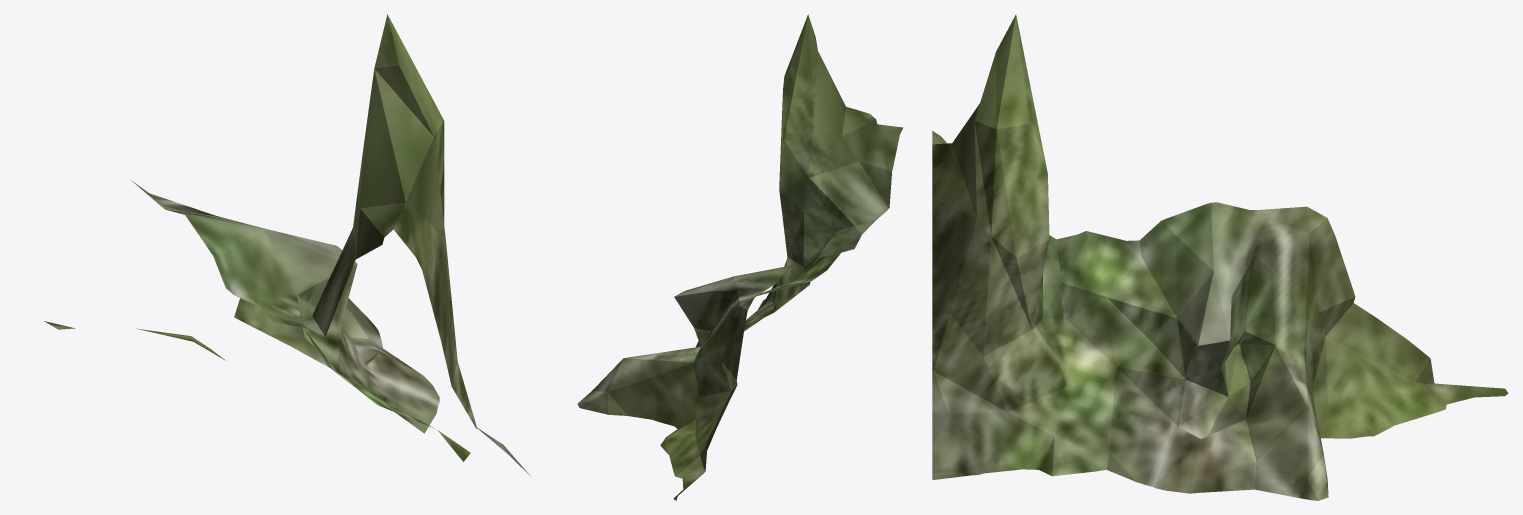
3 renders of one model, left to right at view 1: azimuth 30°, elevation 25°; view 2: azimuth 150°, elevation 25°; view 3: azimuth 270°, elevation 25°, orthographic. The views are drawn at different scales.
Size of the model in its own units: 0.5464 by 0.9898 by 1.24.
Materials: 1 (1 with a texture image).
